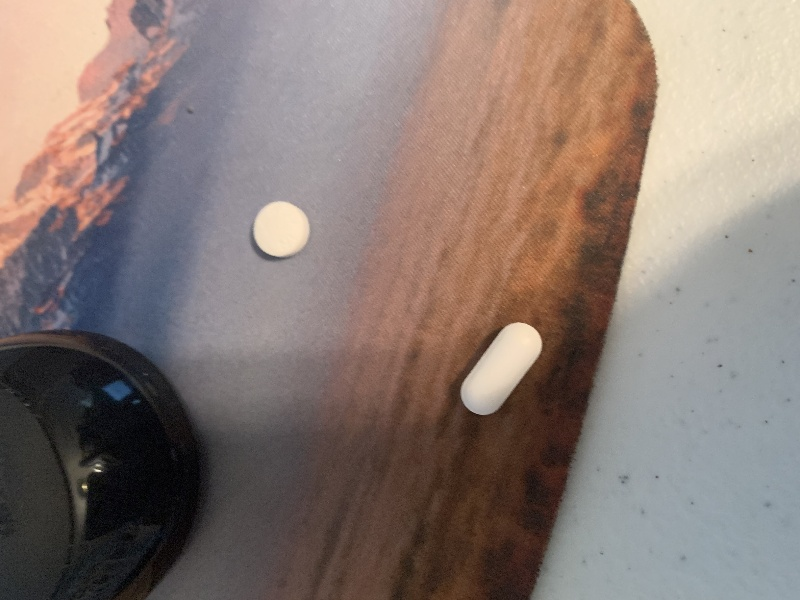Aspirin: (249, 194, 316, 262)
Tylenol: (453, 315, 549, 421)
